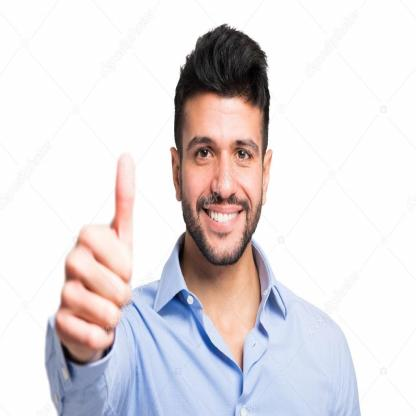Thumbs-Up: (38, 140, 154, 366)
